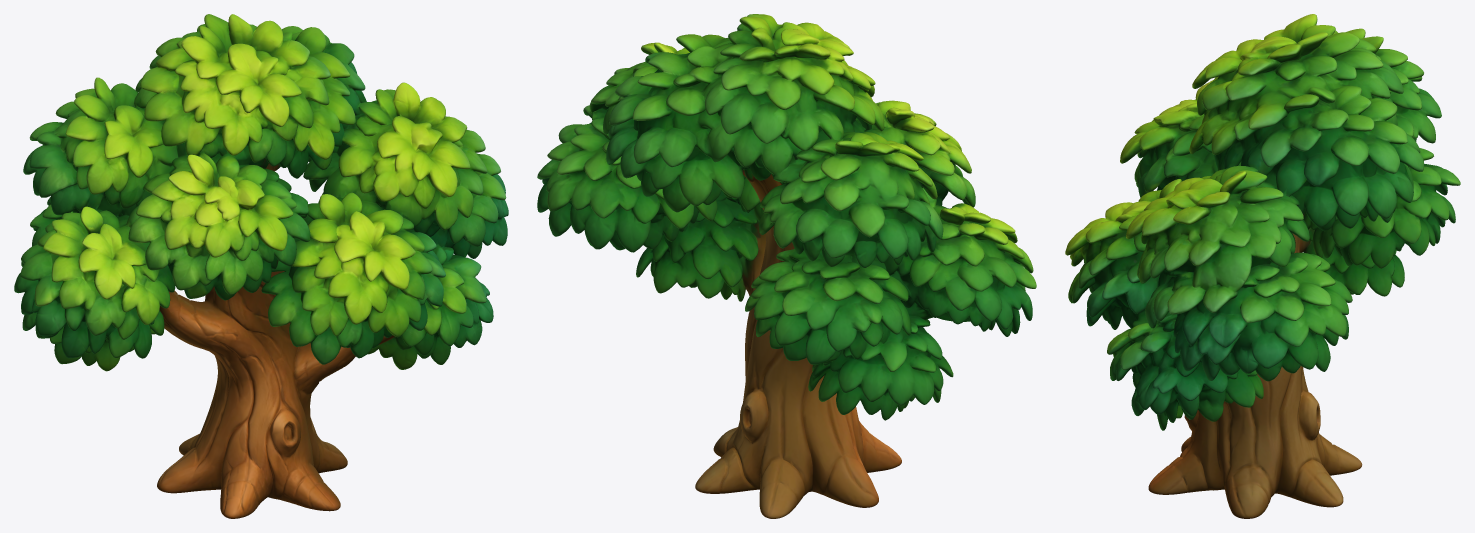
File: StylizedTree.glb
3 views of the same model, side by side, from view 1: azimuth 30°, elevation 25°; view 2: azimuth 150°, elevation 25°; view 3: azimuth 270°, elevation 25° (orthographic). The views are drawn at different scales.
Parts seen in each view (by area): view 1: tripo_node_e66411a5-ff99-4321-964d-a5799cdb7905; view 2: tripo_node_e66411a5-ff99-4321-964d-a5799cdb7905; view 3: tripo_node_e66411a5-ff99-4321-964d-a5799cdb7905.
Part boxes in pixels (box(x1,y1,x2,y2)): tripo_node_e66411a5-ff99-4321-964d-a5799cdb7905: box(14, 14, 508, 518); tripo_node_e66411a5-ff99-4321-964d-a5799cdb7905: box(537, 14, 1036, 518); tripo_node_e66411a5-ff99-4321-964d-a5799cdb7905: box(1065, 14, 1460, 518).
Size of the model in its own units: 0.9797 by 0.8994 by 0.7168.
1 material, 1 textured.
